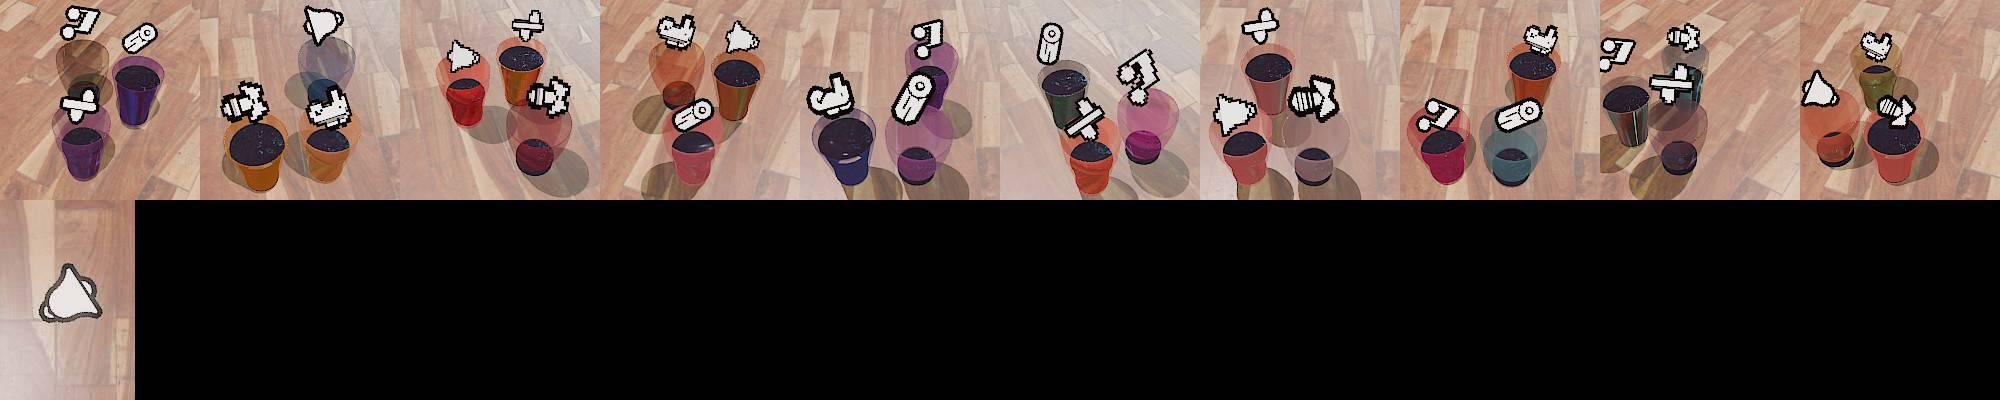icon: (37, 261, 103, 324), (1114, 46, 1159, 111), (890, 70, 936, 126), (1290, 73, 1341, 122), (805, 70, 853, 120), (218, 79, 270, 124), (305, 84, 351, 130), (1648, 62, 1698, 104), (524, 74, 571, 117), (1213, 92, 1256, 136), (1495, 96, 1545, 131), (1064, 96, 1105, 139), (302, 5, 344, 46), (672, 94, 716, 132), (1417, 96, 1460, 134), (657, 11, 698, 51), (60, 84, 101, 124), (1800, 68, 1841, 107), (1241, 8, 1281, 46), (60, 5, 102, 41), (1598, 37, 1636, 74), (722, 19, 760, 55), (909, 19, 945, 56), (1878, 94, 1916, 127), (1523, 23, 1561, 56), (1037, 22, 1065, 66), (444, 39, 481, 73), (122, 22, 158, 54), (1666, 22, 1703, 52), (510, 9, 543, 42), (1860, 31, 1894, 62)
